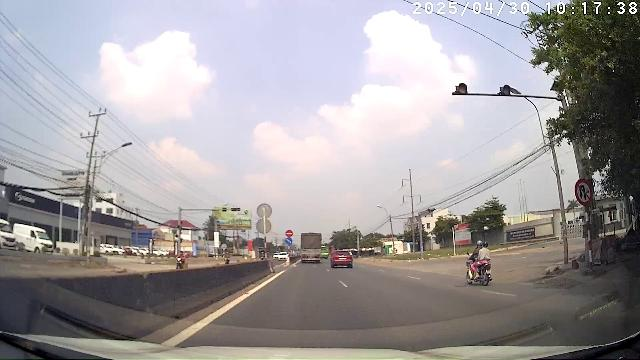102-cam-di-nguoc-chieu: (286, 229, 293, 237)
302a-huong-phai-di-vong-chuong-ngai-vat-1: (286, 237, 293, 245)
